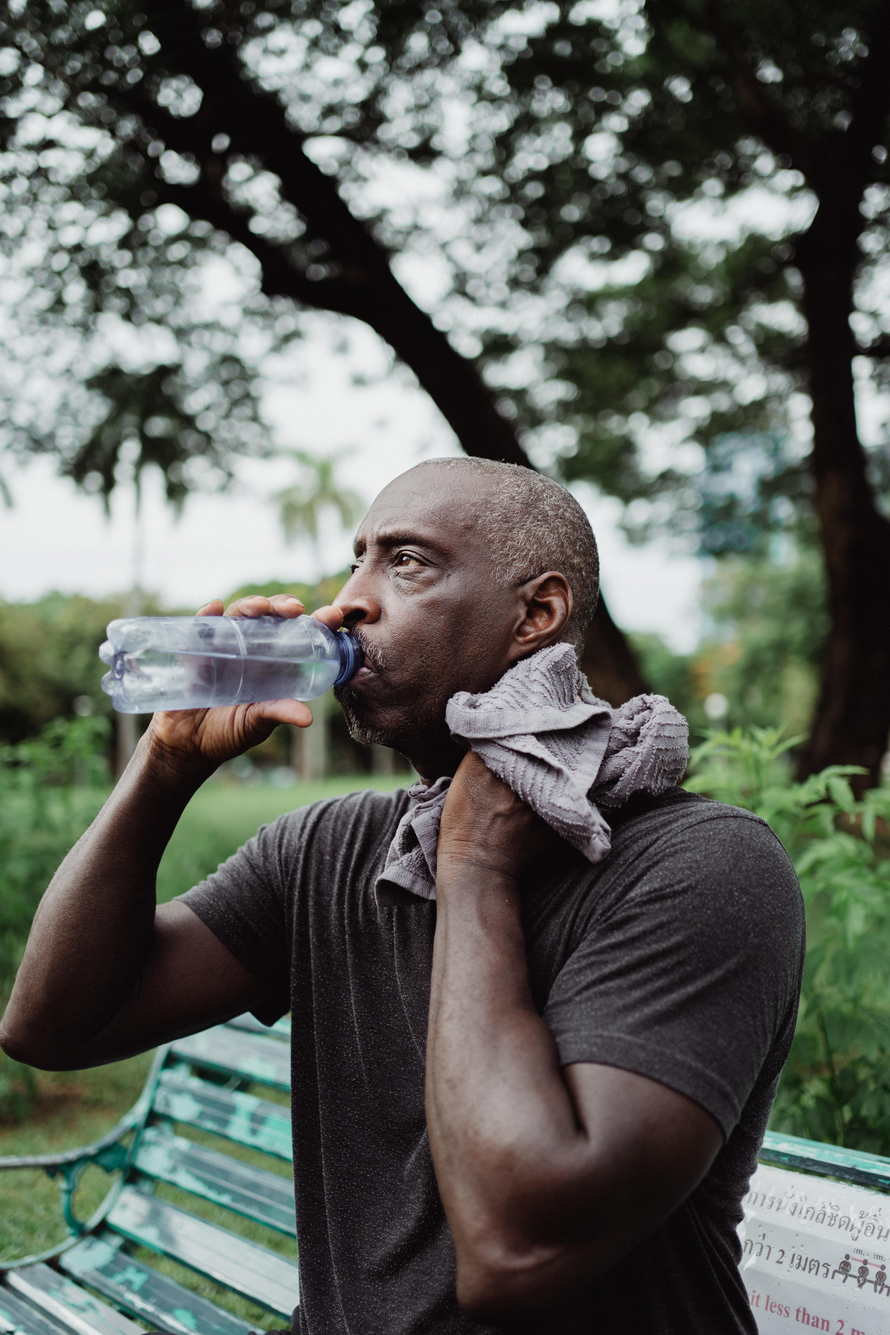bottle-plastic: (87, 598, 362, 719)
